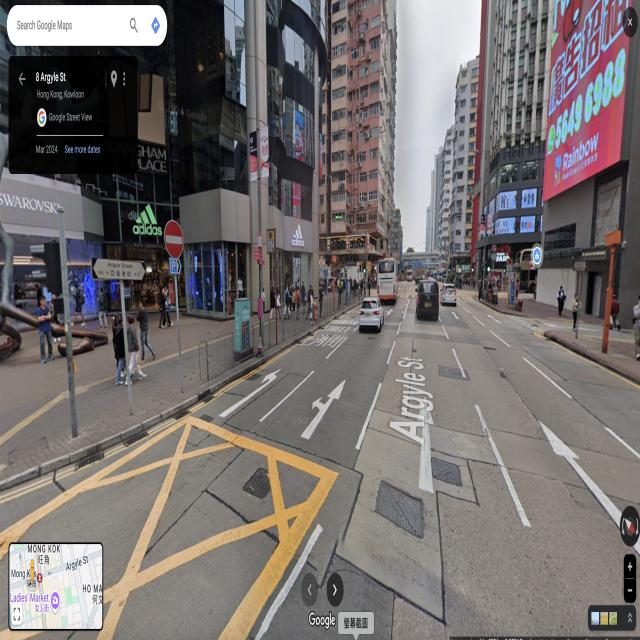Direction-Sign: (169, 257, 182, 273)
Order-Sign: (164, 218, 184, 261), (267, 231, 274, 253), (506, 259, 513, 272), (492, 244, 496, 252)
Street-Direction-Sign: (92, 258, 146, 280), (573, 261, 588, 271)
